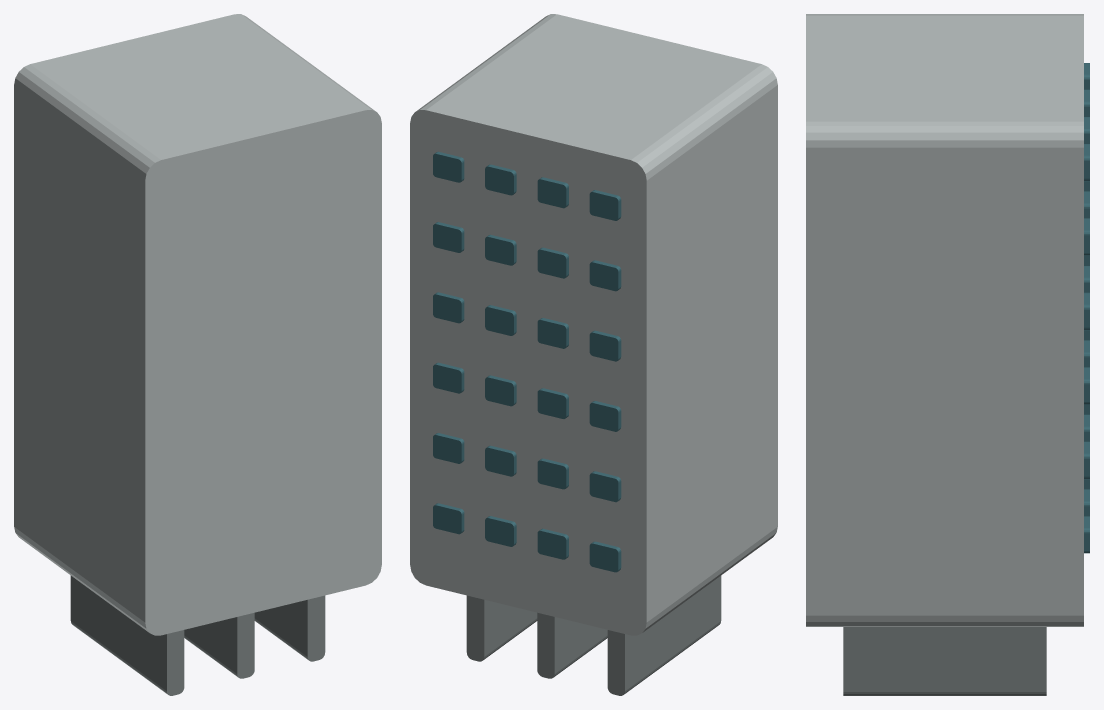
The model's file is hdb-point.glb.
The picture shows the model from 3 angles, left to right: view 1: azimuth 30°, elevation 25°; view 2: azimuth 150°, elevation 25°; view 3: azimuth 270°, elevation 25°; orthographic projection. The views are drawn at different scales.
Parts seen in each view (by area): view 1: compact_tower, void_deck; view 2: compact_tower, repeating_window_recesses, void_deck; view 3: compact_tower, void_deck, repeating_window_recesses.
Part boxes in pixels (box(x1,y1,x2,y2)): compact_tower: box(14, 14, 381, 635); void_deck: box(70, 575, 325, 695); compact_tower: box(410, 14, 777, 635); repeating_window_recesses: box(433, 151, 621, 572); void_deck: box(466, 575, 721, 695); compact_tower: box(806, 14, 1083, 626); void_deck: box(843, 627, 1046, 695); repeating_window_recesses: box(1084, 63, 1089, 553).
Size of the model in its own units: 7.4 by 16.6 by 7.25.
